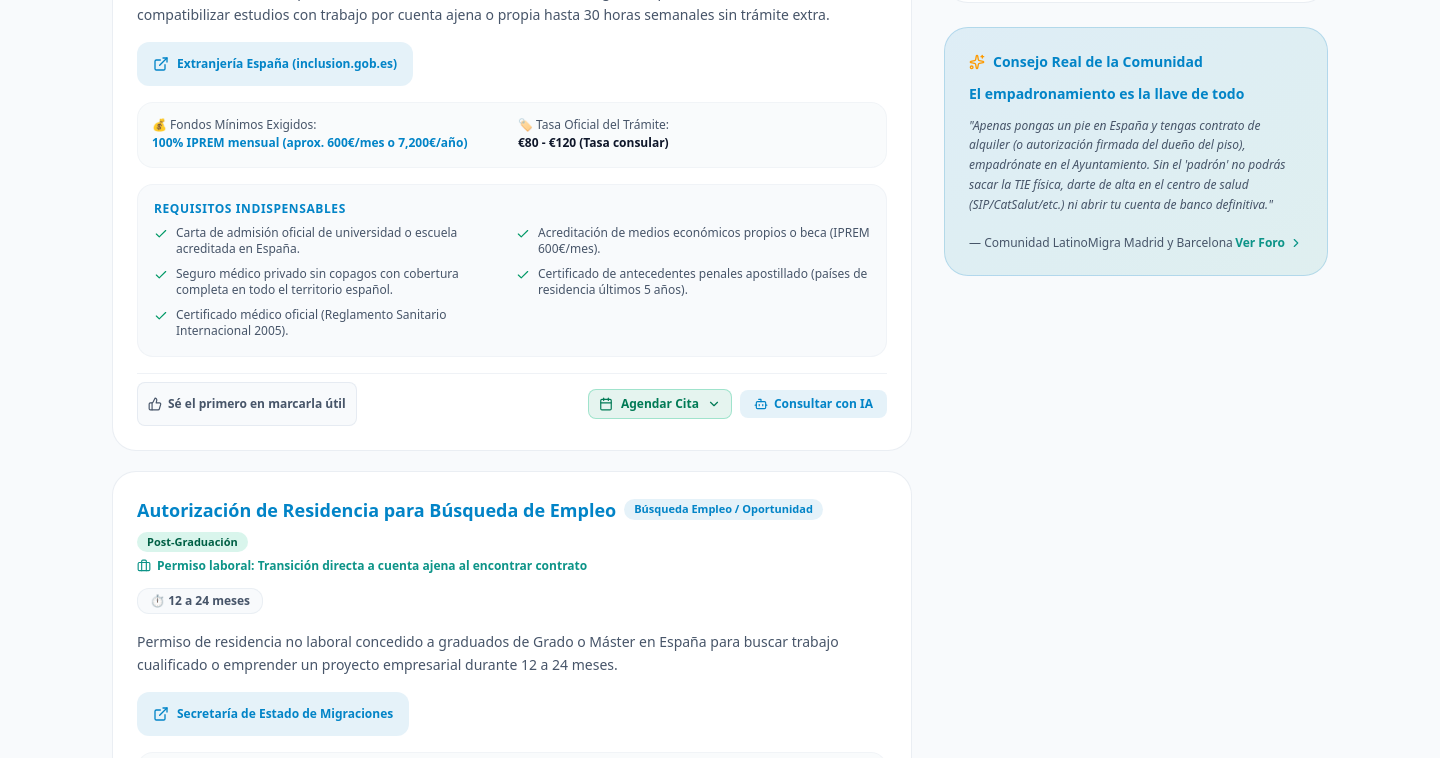
Scenario: Visa usefulness votes › reports a rejected vote instead of showing a number nobody stored
(page scrolled)
Click the button "Sé el primero en marcarla útil".
click(247, 404)  # box [137, 382, 357, 426]
(page scrolled)
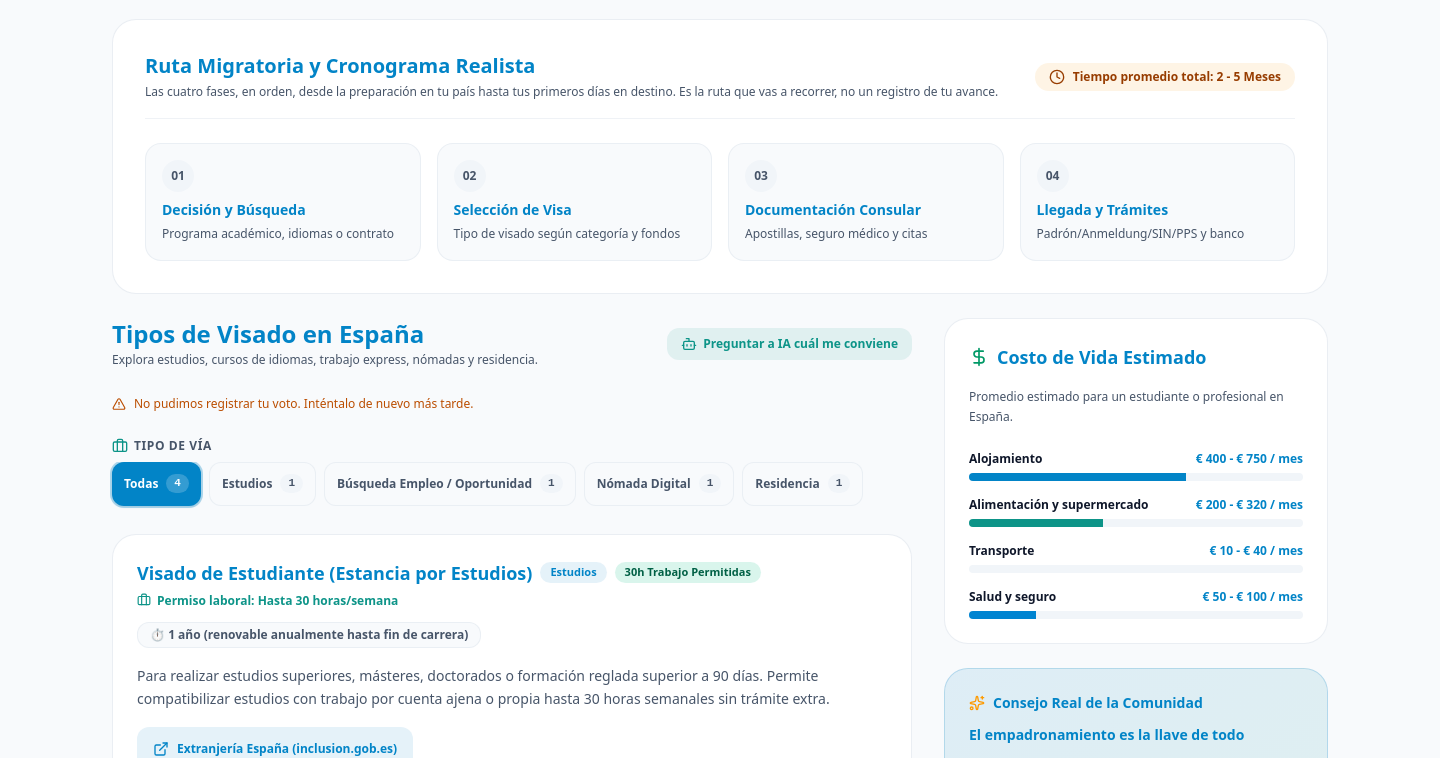
Expected: the element showing "No pudimos registrar tu voto. Inténtalo de nuevo más tarde." is shown, [112, 395, 474, 412]
